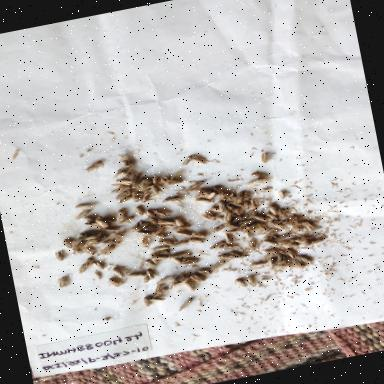pbw: (108, 165, 142, 181), (160, 172, 186, 190), (249, 166, 278, 182), (167, 272, 192, 290), (196, 186, 222, 202), (242, 269, 262, 289), (228, 245, 250, 262), (152, 274, 178, 288), (103, 274, 125, 290), (132, 177, 154, 193), (215, 232, 237, 248), (257, 148, 274, 168), (72, 199, 98, 212), (178, 152, 199, 168), (178, 254, 202, 268), (160, 193, 184, 207), (260, 246, 284, 260), (112, 188, 136, 202), (170, 221, 200, 232), (194, 264, 216, 279), (246, 256, 268, 271), (105, 184, 128, 198), (200, 209, 220, 225), (208, 258, 228, 274), (252, 224, 272, 240), (243, 238, 263, 254), (304, 235, 328, 248), (166, 250, 190, 263), (185, 180, 207, 194), (248, 211, 270, 225), (82, 218, 104, 232), (97, 244, 119, 258), (192, 194, 214, 208), (262, 226, 284, 240), (289, 256, 307, 273), (264, 203, 282, 220), (284, 213, 302, 230), (224, 201, 242, 218), (109, 264, 128, 280), (181, 280, 201, 295), (108, 229, 128, 244), (87, 268, 108, 282), (153, 205, 174, 219), (142, 256, 160, 272), (78, 212, 102, 224), (126, 269, 150, 281), (50, 248, 68, 264), (98, 238, 122, 250), (156, 217, 178, 230), (114, 176, 136, 189), (129, 204, 148, 219), (191, 154, 210, 169), (188, 228, 208, 242), (230, 190, 250, 204), (148, 182, 168, 196), (296, 253, 316, 267), (268, 219, 289, 232), (149, 230, 170, 243), (55, 274, 72, 290), (216, 198, 233, 214), (232, 276, 250, 291), (112, 207, 130, 222), (186, 236, 208, 248), (282, 239, 304, 251), (115, 215, 137, 227), (245, 176, 267, 188), (216, 252, 236, 265), (83, 229, 103, 242), (146, 293, 166, 306), (244, 197, 260, 213), (140, 208, 158, 222), (240, 226, 258, 240), (285, 248, 303, 262), (112, 195, 134, 206), (219, 210, 235, 225), (174, 227, 194, 239), (208, 204, 228, 216), (164, 255, 184, 267), (132, 220, 152, 232), (134, 228, 154, 240), (167, 170, 184, 184), (147, 173, 164, 187), (191, 270, 208, 284), (156, 236, 174, 249), (262, 236, 280, 249), (150, 251, 171, 262), (218, 188, 233, 203), (144, 267, 158, 283), (138, 192, 154, 206), (302, 219, 318, 233), (274, 206, 290, 220), (92, 258, 108, 272), (298, 234, 314, 248), (138, 236, 156, 248), (72, 210, 90, 222), (130, 190, 144, 205), (151, 243, 170, 254), (82, 245, 98, 258), (265, 255, 278, 271), (237, 218, 255, 229), (147, 226, 165, 237), (240, 209, 258, 220), (141, 294, 155, 308), (242, 189, 255, 204), (61, 236, 73, 252), (209, 240, 225, 252), (94, 218, 110, 230), (104, 224, 123, 234), (219, 242, 238, 252), (276, 188, 290, 201), (152, 281, 166, 294), (172, 239, 190, 249), (222, 227, 242, 236), (127, 222, 142, 234), (274, 232, 292, 242), (282, 237, 300, 247), (76, 262, 91, 274), (139, 274, 154, 286), (210, 224, 226, 235), (239, 200, 252, 213), (172, 216, 185, 229), (150, 254, 164, 266), (146, 216, 160, 228), (128, 172, 142, 184), (96, 234, 112, 244), (278, 253, 291, 265), (230, 214, 244, 225), (76, 241, 87, 252), (378, 217, 384, 229)
